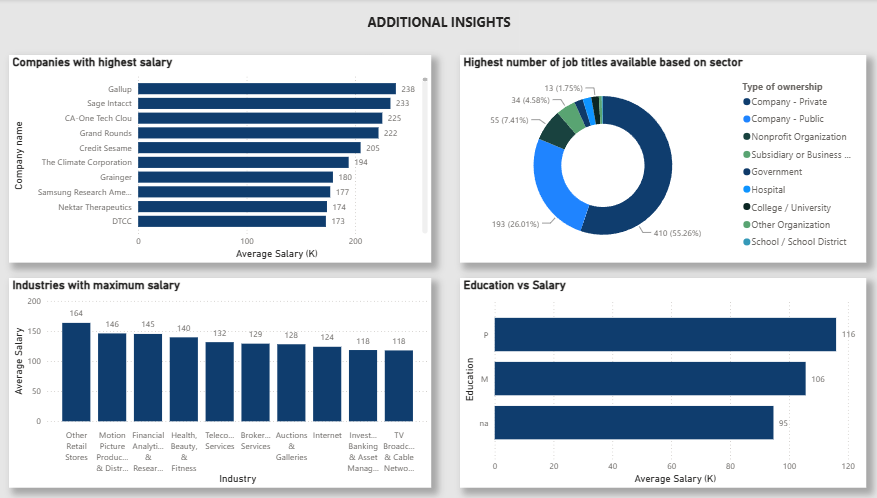

Layout of this report page (visuals, bound fields, positions):
{"tool":"powerbi","page":{"name":"Page 2","canvas":[1280,720],"ordinal":1},"visuals":[{"type":"textbox","box":[528,16,224,64],"z":0},{"type":"clusteredBarChart","title":"Companies with highest salary","fields":{"Category":["job_market.company_txt"],"Y":["Avg(job_market.Avg_SalaryK)"]},"box":[16.8,80.6,608.1,299],"z":1000},{"type":"clusteredColumnChart","title":"Industries with maximum salary","fields":{"Category":["job_market.Industry"],"Y":["Avg(job_market.Avg_SalaryK)"]},"box":[16.8,401.5,608.1,302.4],"z":2000},{"type":"donutChart","title":"Highest number of job titles available based on sector","fields":{"Category":["job_market.Type_of_ownership"],"Y":["CountNonNull(job_market.job_title_sim)"]},"box":[666.9,80.6,584.6,299],"z":3000},{"type":"lineChart","title":"Estimated salary vs Upper Salary and Lower Salary","fields":{"Category":["job_market.Salary_Estimate"],"Y":["Avg(job_market.Upper_Salary)","Avg(job_market.Lower_Salary)"]},"box":[666.9,401.5,584.6,302.4],"z":4000}]}

Visuals, with their boxes in screenshot pixels (x1, y1, x2, y2), scaled from the page's 1280x720 canvas onto the 877x498 screenshot:
textbox: bbox=(362, 11, 515, 55)
"Companies with highest salary" clusteredBarChart: bbox=(12, 56, 428, 263)
"Industries with maximum salary" clusteredColumnChart: bbox=(12, 278, 428, 487)
"Highest number of job titles available based on sector" donutChart: bbox=(457, 56, 857, 263)
"Estimated salary vs Upper Salary and Lower Salary" lineChart: bbox=(457, 278, 857, 487)
